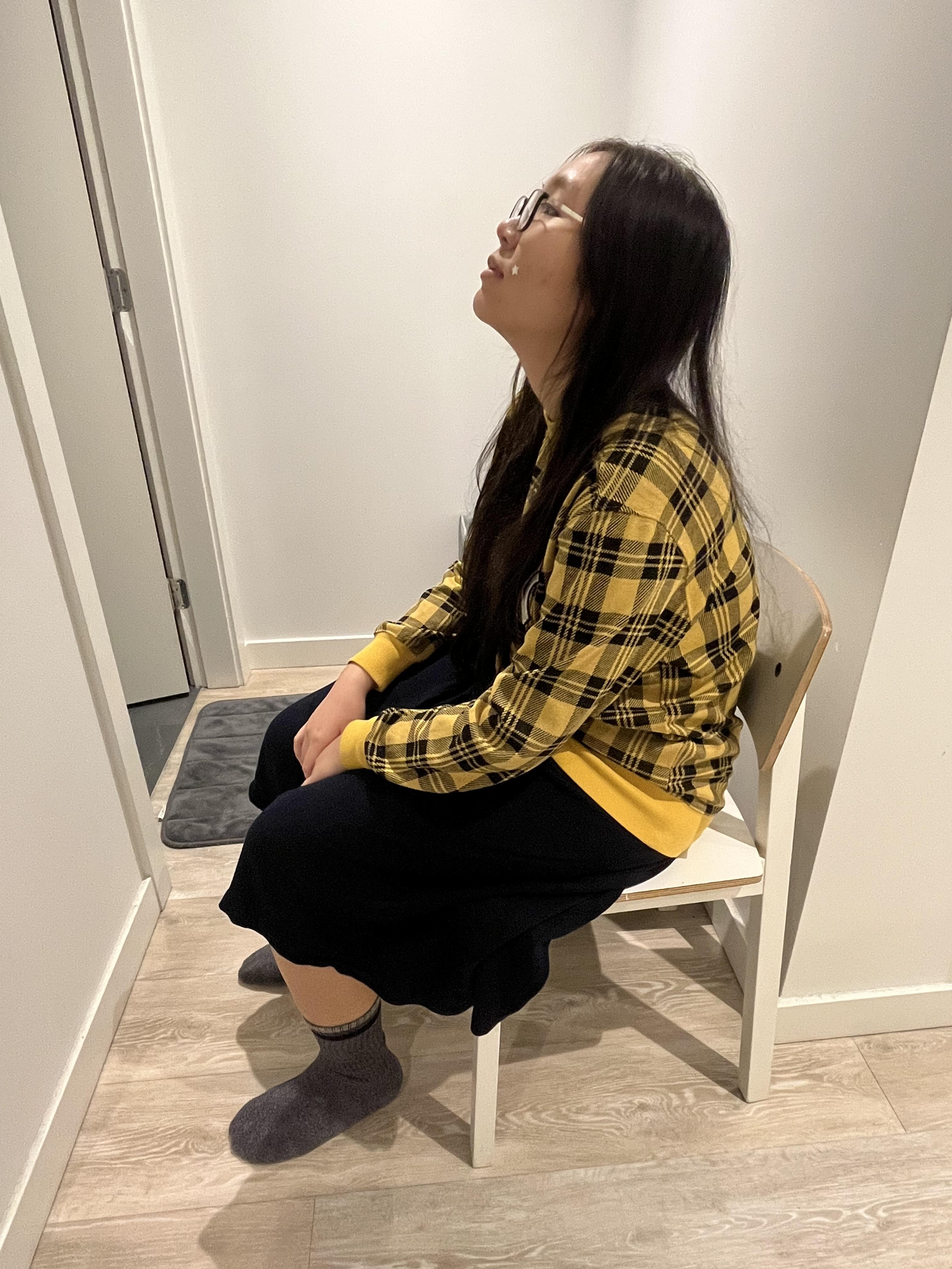BadPosture: (222, 136, 763, 1162)
